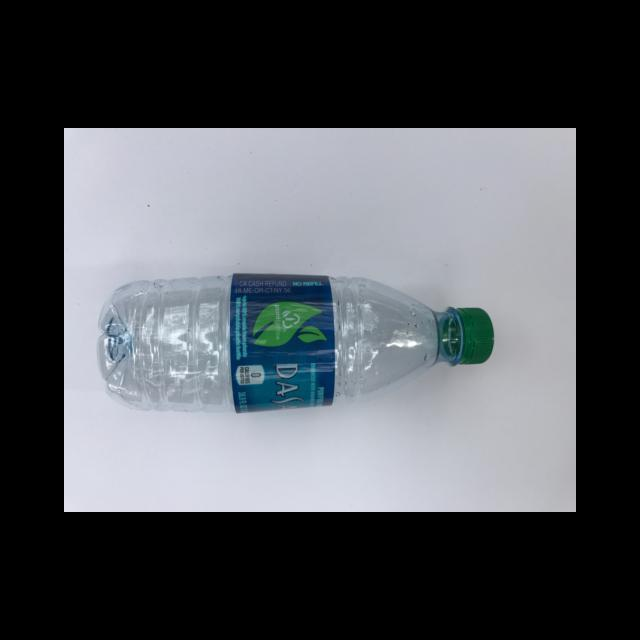plastic: (95, 272, 494, 413), (228, 271, 335, 413), (442, 306, 493, 367)
